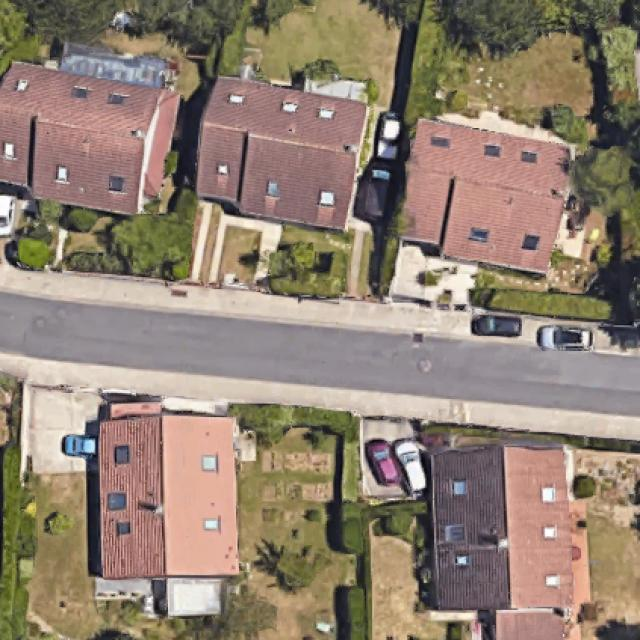maison: (0, 59, 181, 222), (186, 75, 368, 233), (397, 119, 576, 277), (430, 445, 572, 608), (100, 413, 236, 575)
